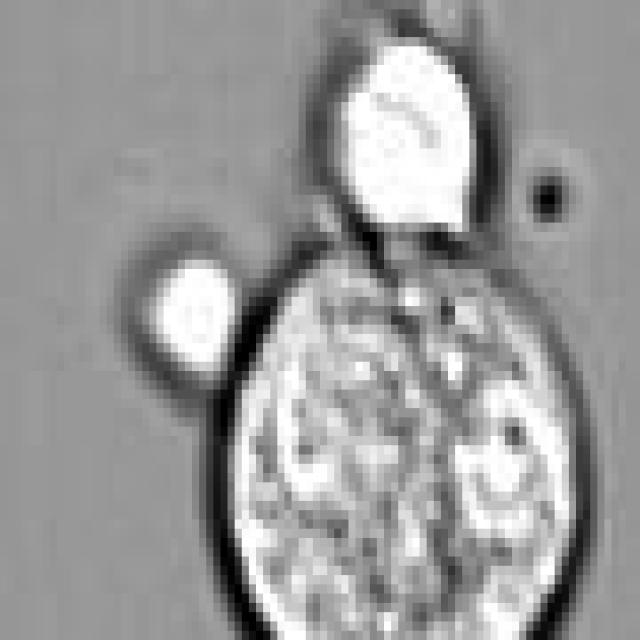Cancer Cell: (227, 222, 590, 640)
WBC: (327, 46, 484, 242), (135, 241, 242, 380)
